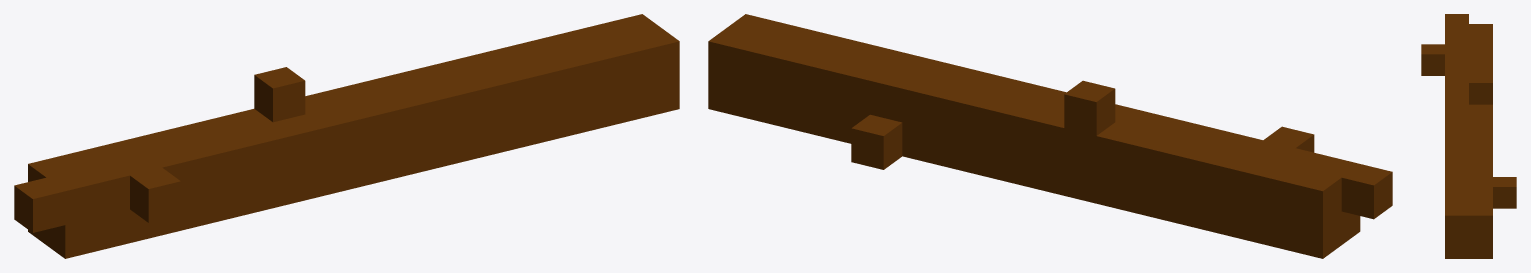
Rendered from Log.gltf.
The picture shows the model from 3 angles, left to right: view 1: azimuth 30°, elevation 25°; view 2: azimuth 150°, elevation 25°; view 3: azimuth 270°, elevation 25°; orthographic projection. The views are drawn at different scales.
Size of the model in its own units: 20 by 3 by 4.
1 material, 1 textured.
